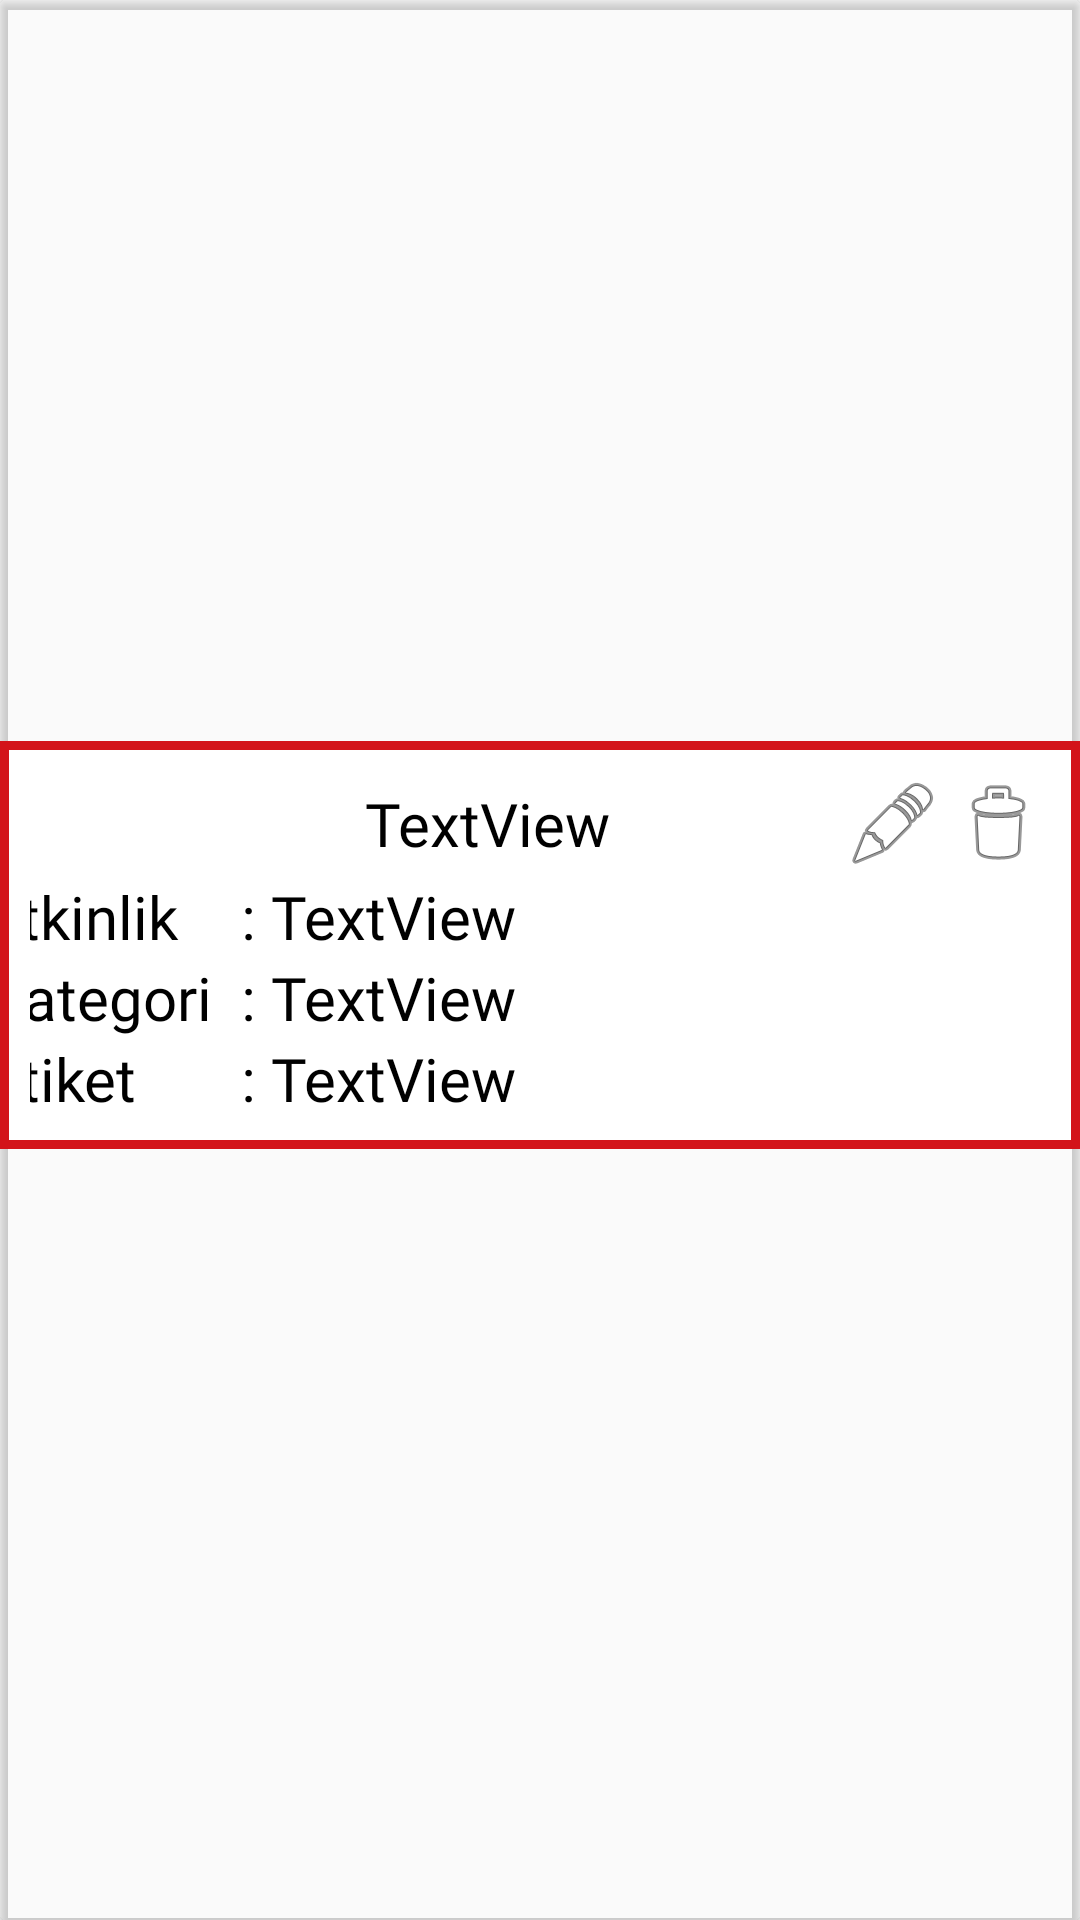

Screen size 1080 x 1920. Icon name, then its box in pixels as (x1, y1, x2, y2):
delete: (971, 785, 1026, 860)
edit: (852, 783, 933, 864)
